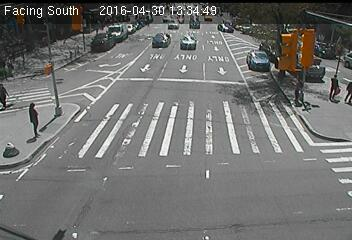neg: (124, 88, 142, 112), (259, 137, 277, 161), (185, 20, 203, 44), (98, 21, 115, 43), (207, 120, 222, 140), (261, 48, 274, 65), (186, 85, 197, 100), (134, 154, 145, 168), (72, 47, 81, 59)
pos: (19, 100, 46, 137), (323, 71, 345, 101)
